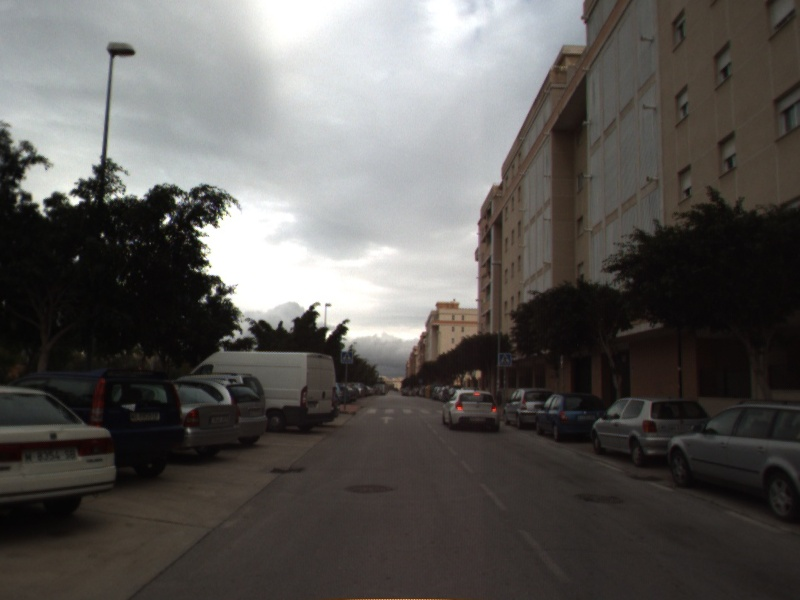STRAIGHT: (378, 414, 397, 425)
